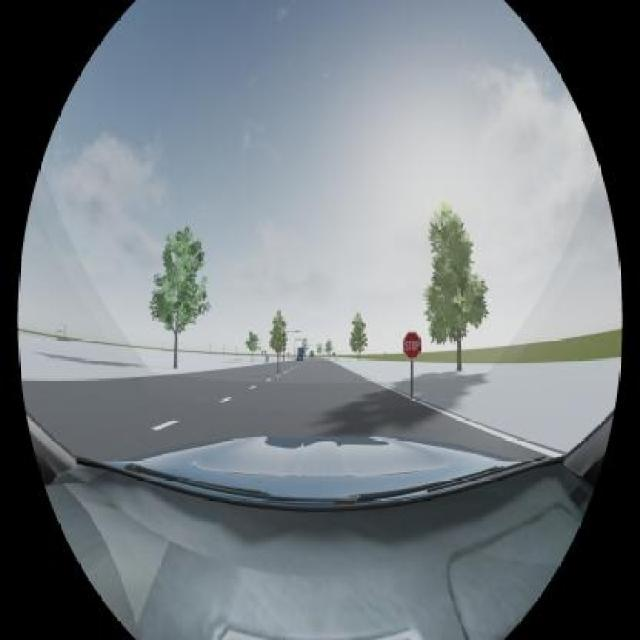forb_speed_over_20: (276, 345, 282, 353)
